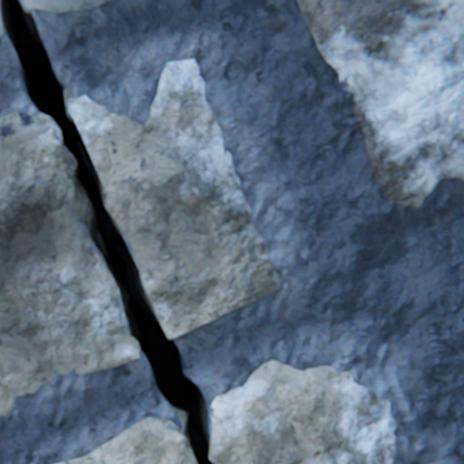brick: (295, 0, 463, 208)
broken_brick: (67, 60, 280, 338), (0, 113, 140, 416), (208, 360, 394, 463), (55, 417, 196, 463), (20, 0, 112, 14), (0, 7, 4, 38)
crack: (0, 0, 213, 463)
